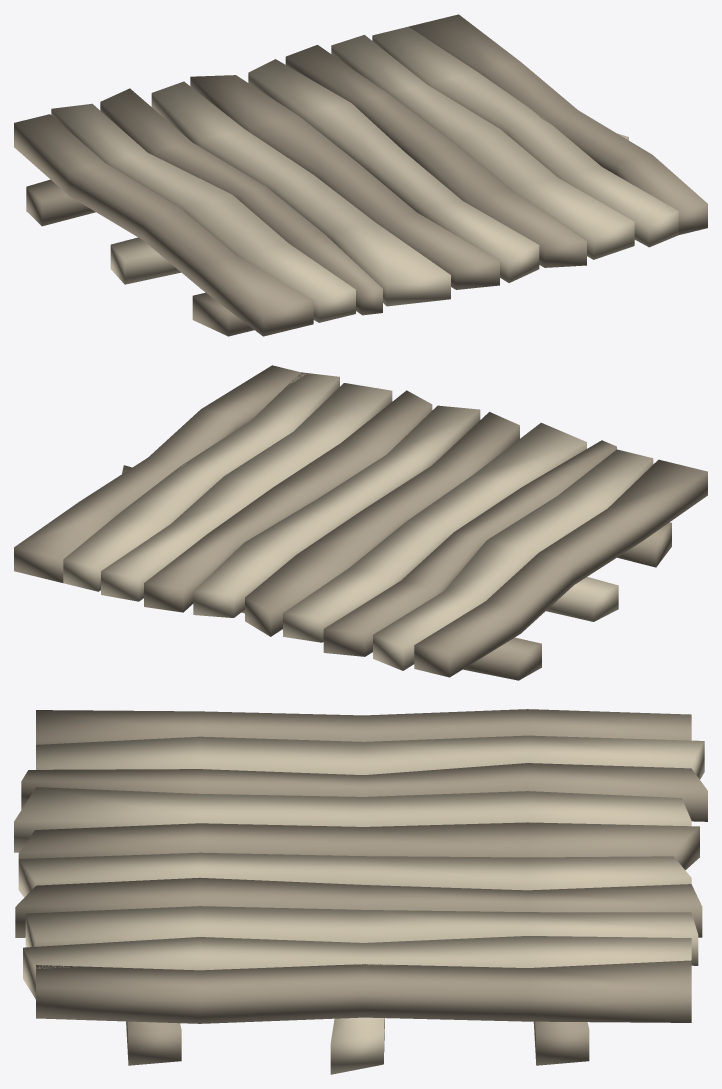
The model's file is Platform.fbx.
The picture shows the model from 3 angles, top to bottom: view 1: azimuth 30°, elevation 25°; view 2: azimuth 150°, elevation 25°; view 3: azimuth 270°, elevation 25°; orthographic projection. The views are drawn at different scales.
Parts seen in each view (by area): view 1: Platform; view 2: Platform; view 3: Platform.
Boxes of the visible parts, x1,y1,x2,y2 form: Platform: [14, 14, 707, 336]; Platform: [14, 365, 707, 680]; Platform: [14, 709, 707, 1074].
Size of the model in its own units: 107 by 10.26 by 99.59.
